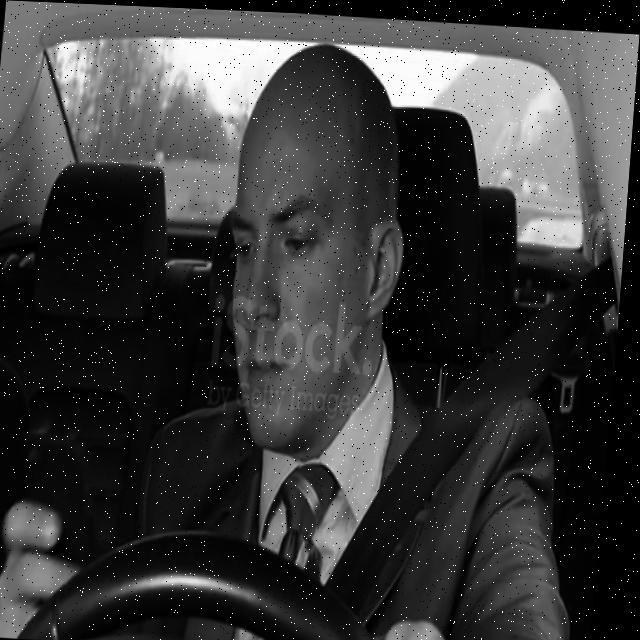PhoneCall: (18, 426, 112, 574)
